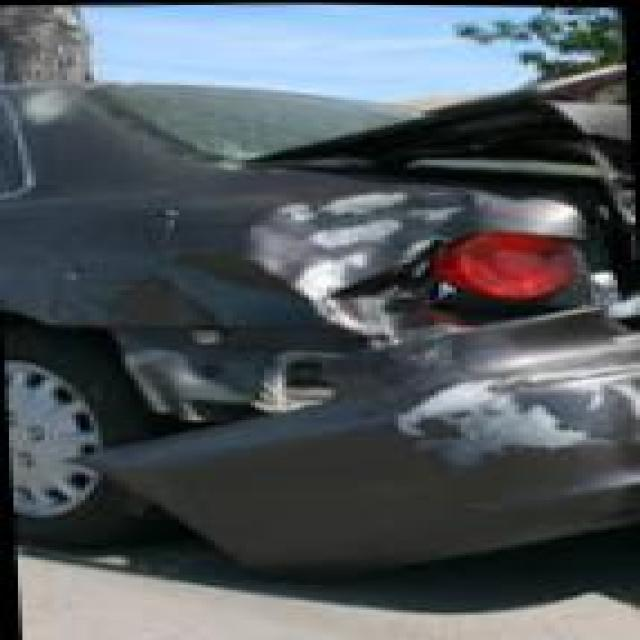Bumper: (76, 310, 640, 586)
Dickey: (227, 101, 640, 331)
Fender: (46, 157, 512, 350)
Light: (401, 231, 599, 308)
Windshield: (88, 88, 432, 163)
